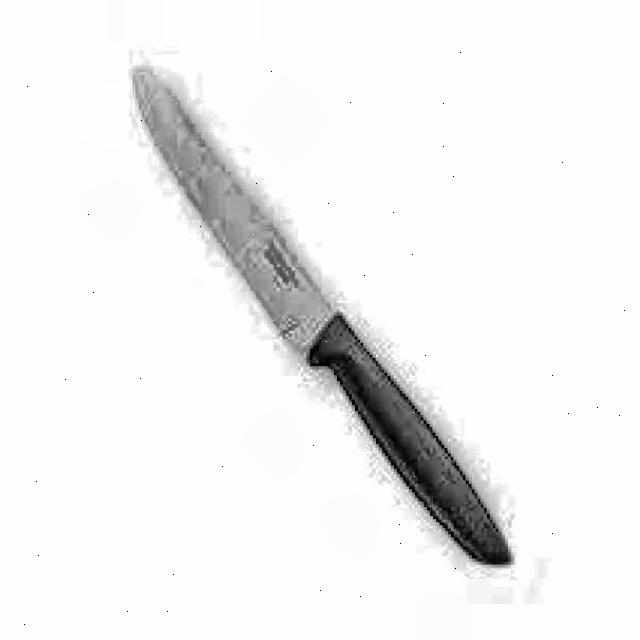knife: (128, 65, 526, 574)
